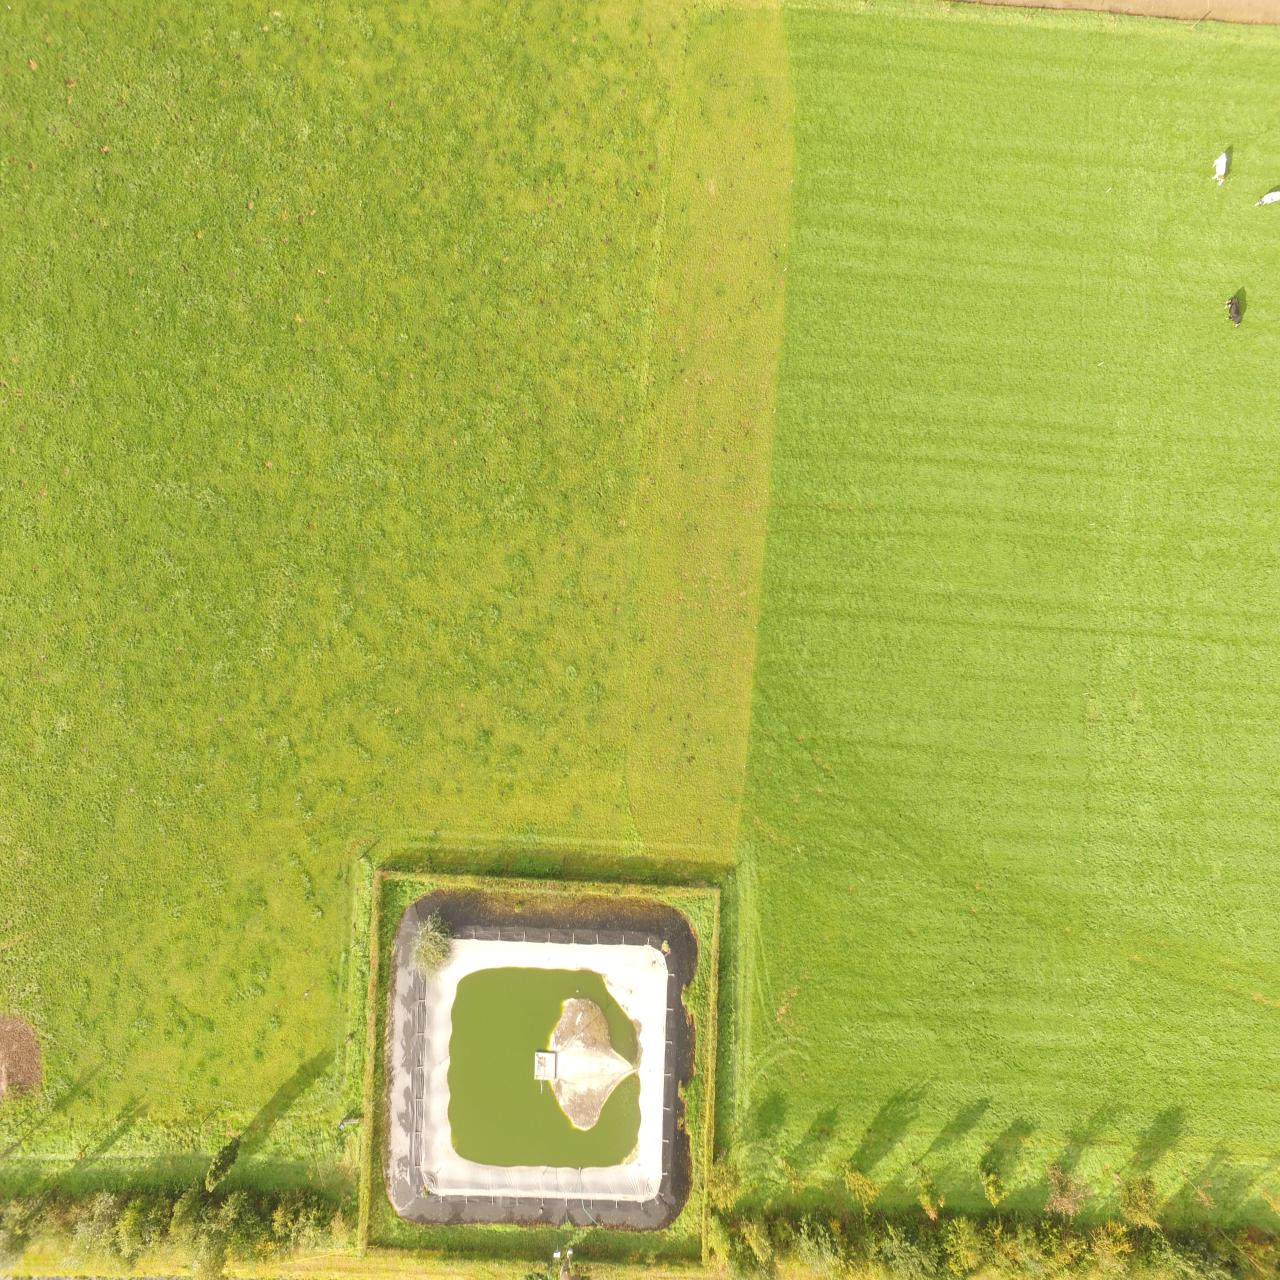cow: (1224, 291, 1248, 327), (1213, 139, 1231, 185), (1257, 188, 1280, 203)
